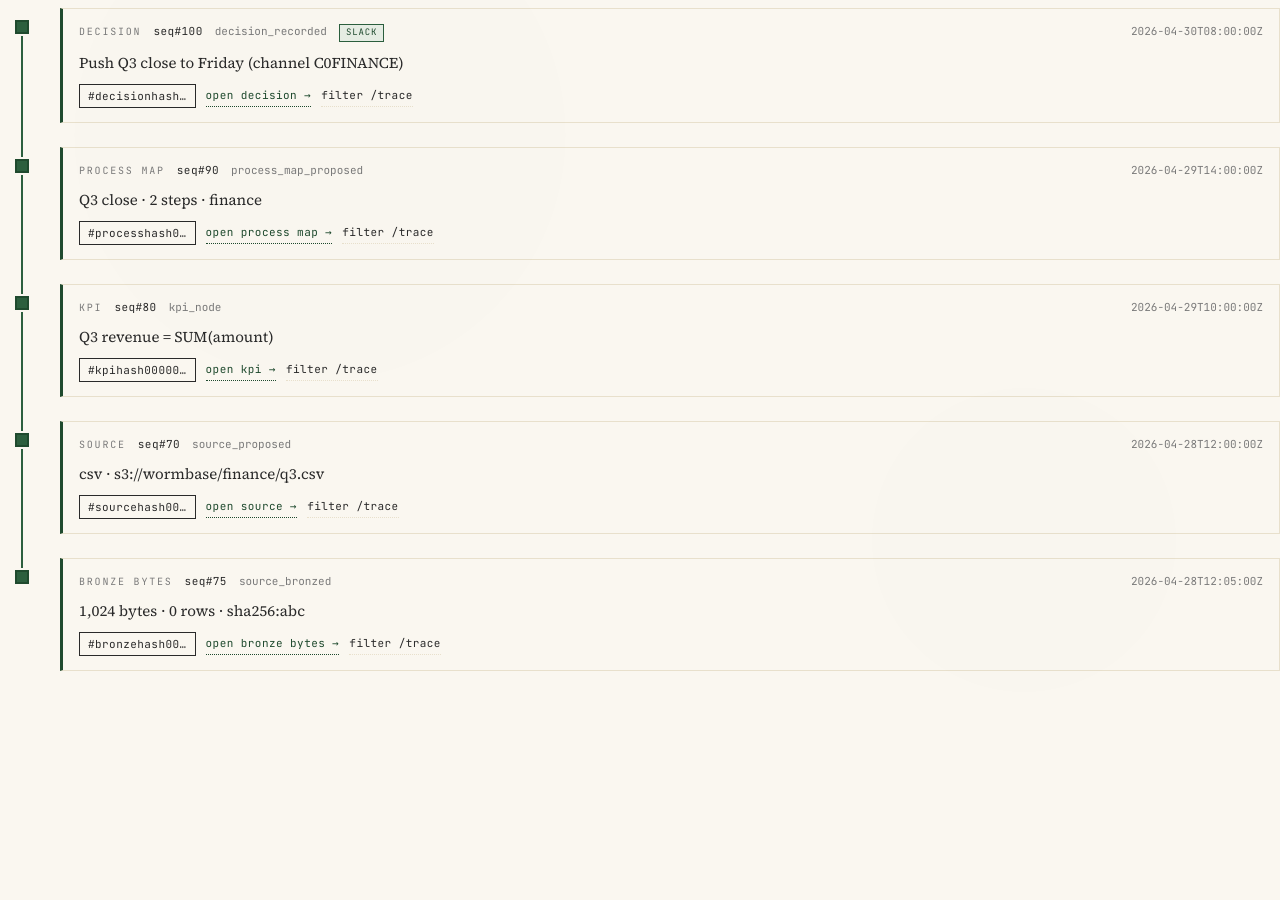
it: DecisionChainView · copy-to-clipboard › copies the full hash on click and surfaces the 'copied' confirmation
Click the button with test id "chain-copy-decision_recorded": (137, 96) [79,84,196,108]
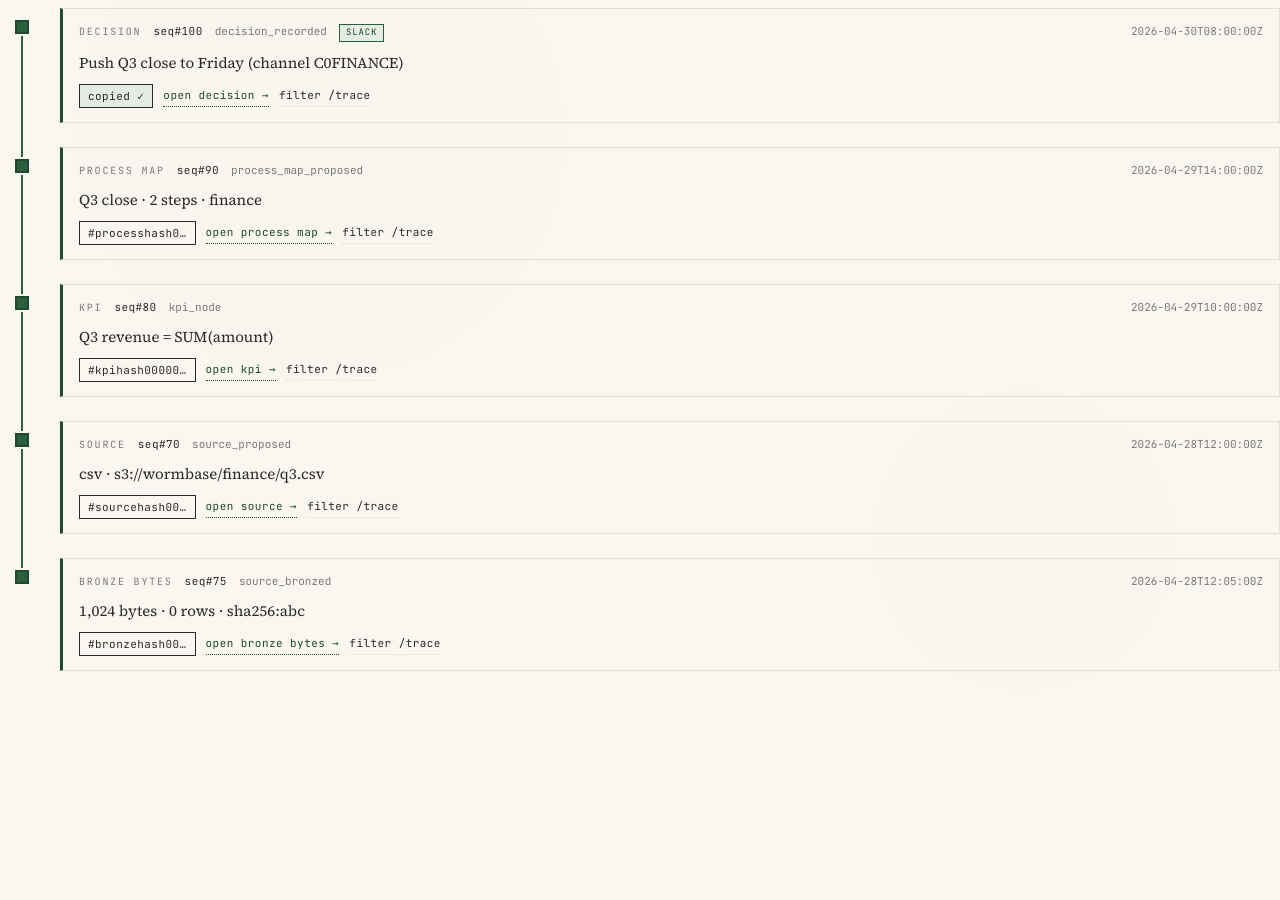
Result: the button with test id "chain-copy-decision_recorded" shows "copied" at [79,84,153,108]
